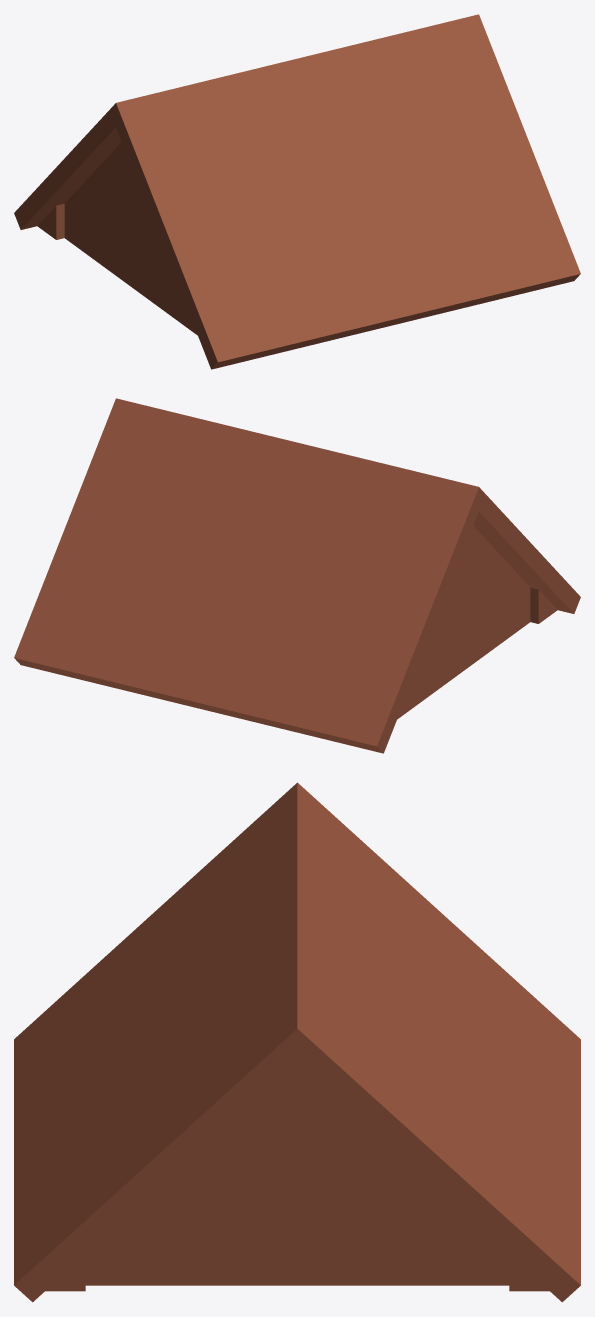
File: roof-gable.glb
The picture shows the model from 3 angles, top to bottom: view 1: azimuth 30°, elevation 25°; view 2: azimuth 150°, elevation 25°; view 3: azimuth 270°, elevation 25°; orthographic projection. The views are drawn at different scales.
Parts seen in each view (by area): view 1: roof-gable; view 2: roof-gable; view 3: roof-gable.
Boxes of the visible parts, x1,y1,x2,y2 form: roof-gable: (14,14,580,369); roof-gable: (14,398,580,753); roof-gable: (14,782,580,1302).
Bounding box in the file's own units: 1.1 × 0.5707 × 1.07.
